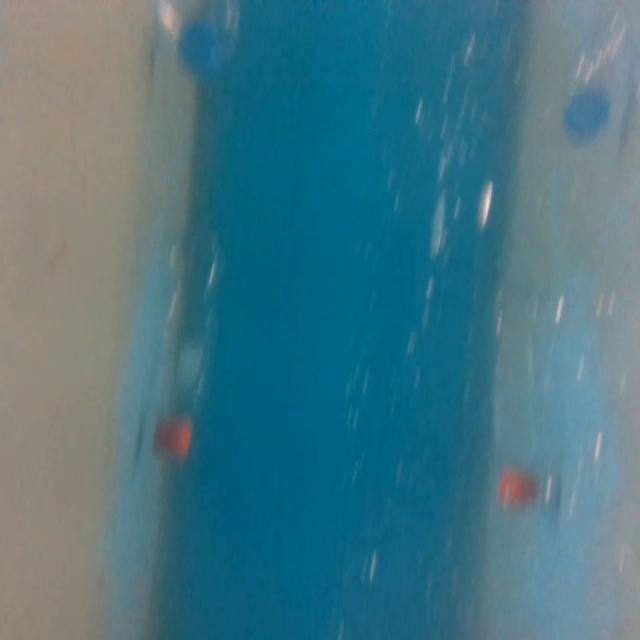plastic bottle: (148, 230, 234, 466)
